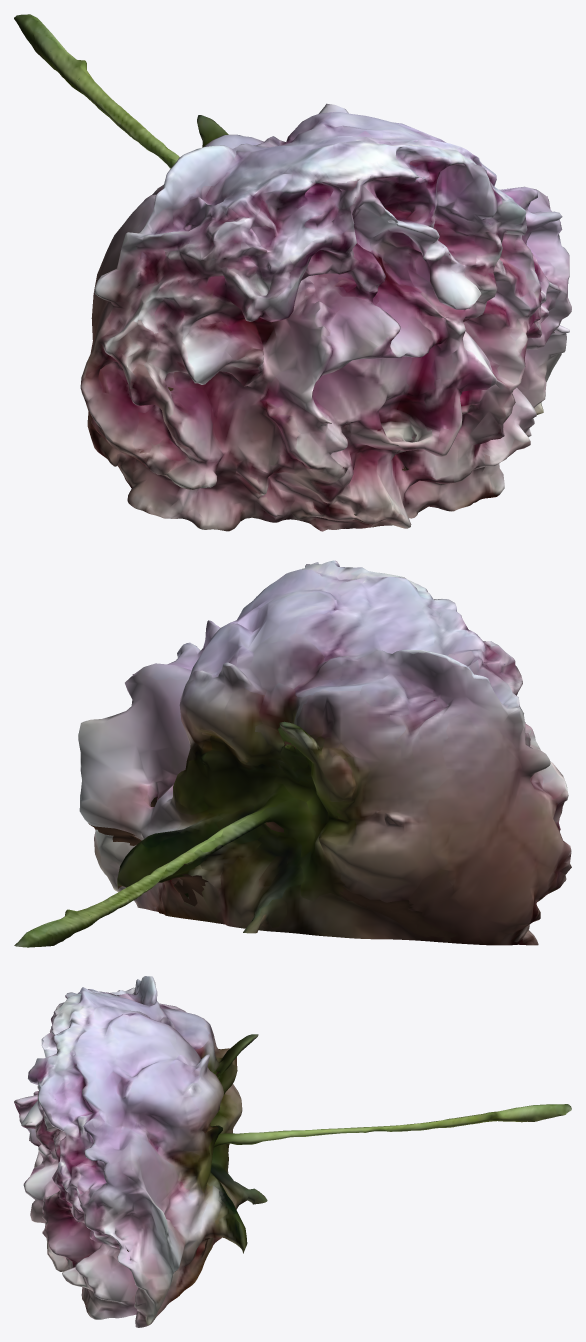
The model's file is peony.glb.
3 views of the same model, one above another, from view 1: azimuth 30°, elevation 25°; view 2: azimuth 150°, elevation 25°; view 3: azimuth 270°, elevation 25° (orthographic). The views are drawn at different scales.
Parts seen in each view (by area): view 1: Object_4; view 2: Object_4, Object_6; view 3: Object_4.
Part boxes in pixels (x1,y1,x2,y2): Object_4: (14,14,571,531); Object_4: (14,560,571,947); Object_6: (65,574,568,942); Object_4: (14,976,571,1327).
Bounding box in the file's own units: 0.5706 × 0.4296 × 0.8093.
Materials: 2 (2 with a texture image).
